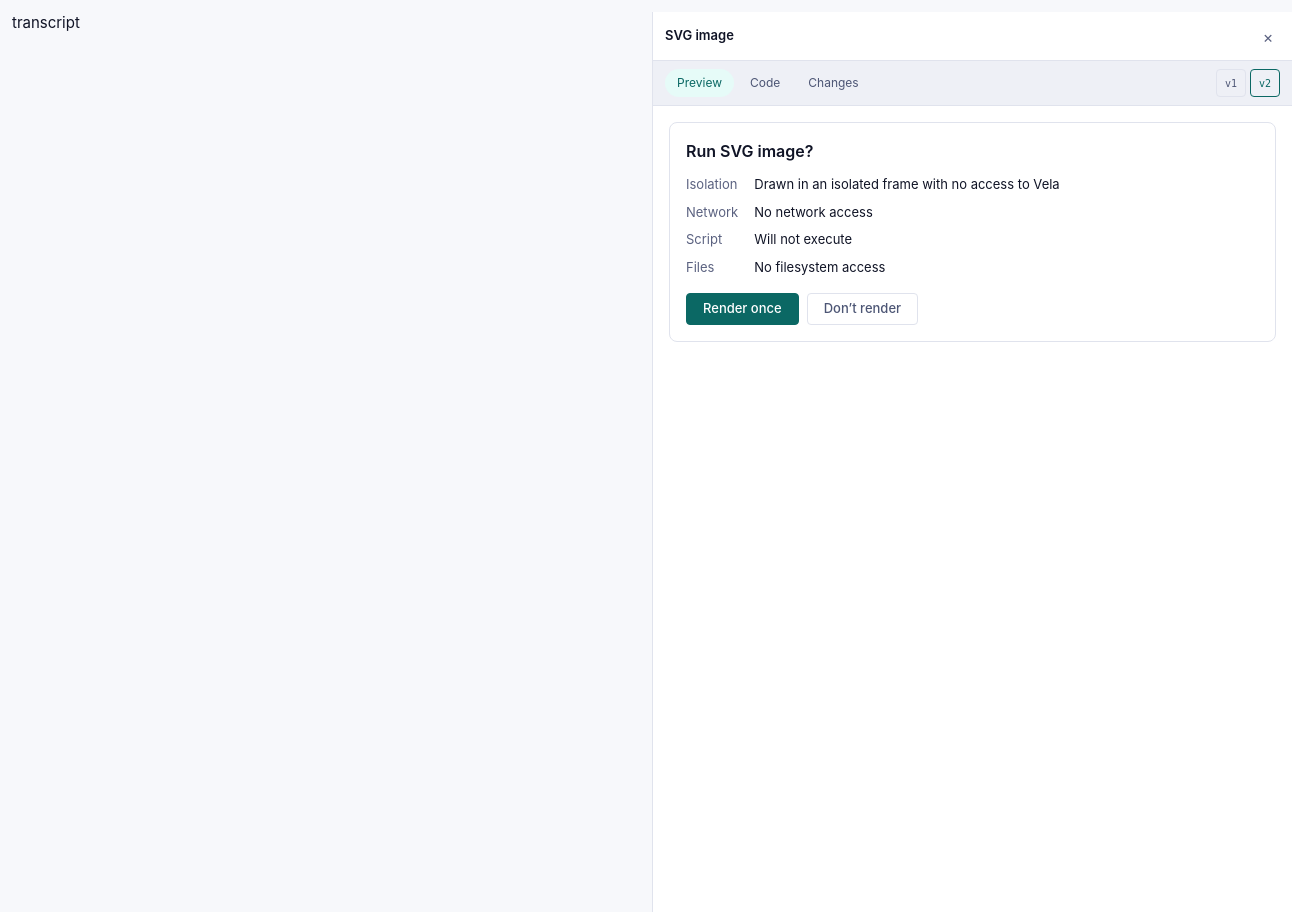
it: a revision is a version of the same artifact › opens one panel with two versions, showing the newest
The image size is (1292, 912).
Check: the number of buttons "v1" is 2, box [1216,69,1246,97]; [1250,69,1280,97]
Click the tab "Code".
click(765, 83)  # box [738,69,792,97]
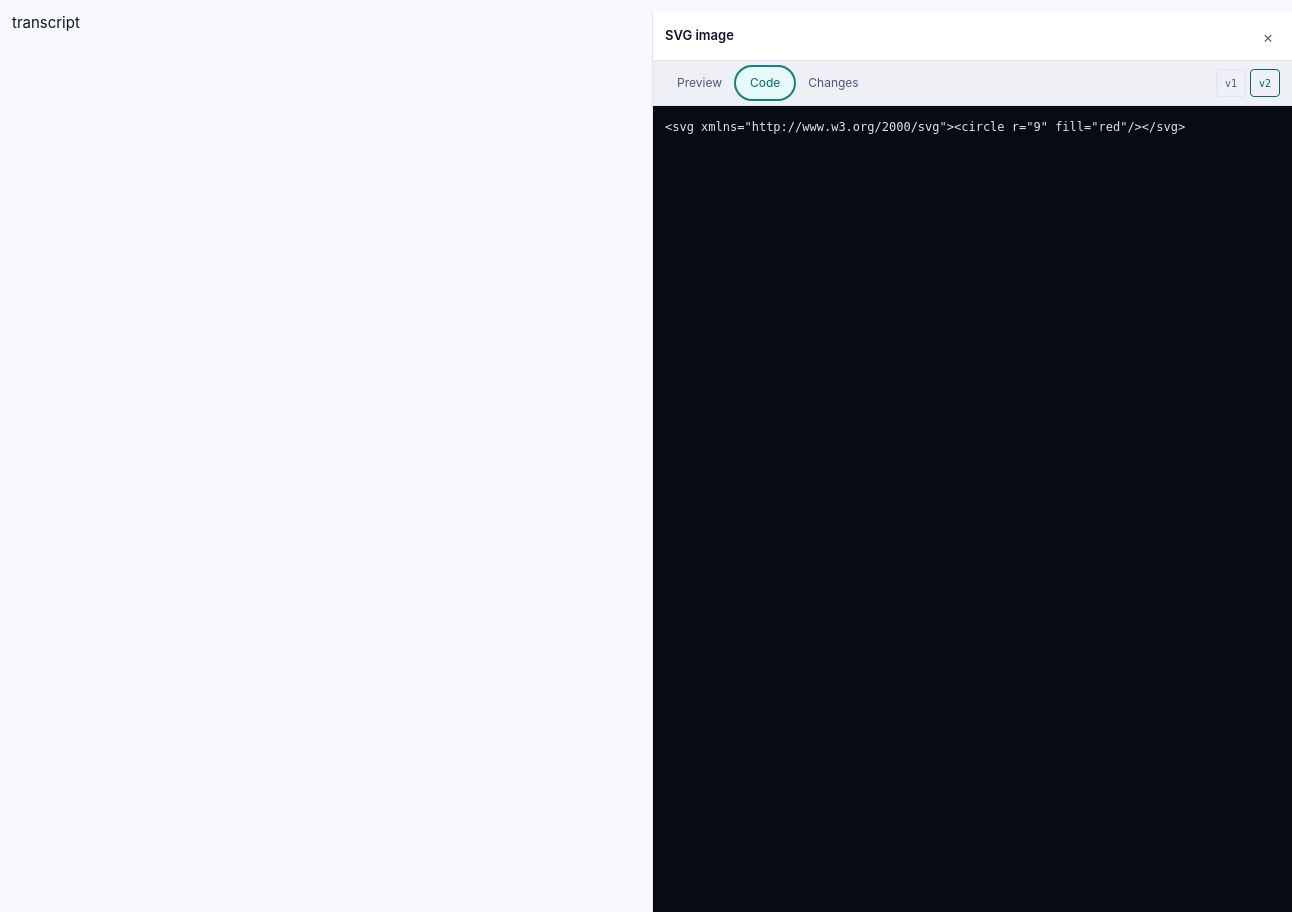
Check: the element with test id "canvas-code" shows "r=\"9\"", box [665,120,1185,134]
